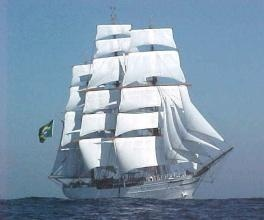fanchuan: (37, 11, 232, 198)
